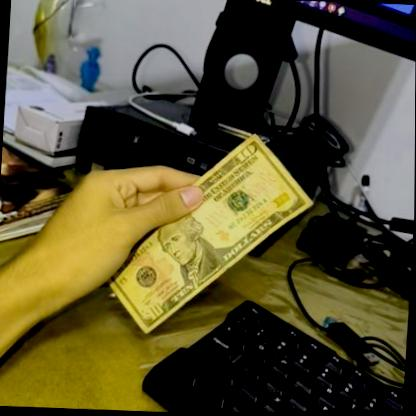ten-front: (102, 124, 319, 344)
